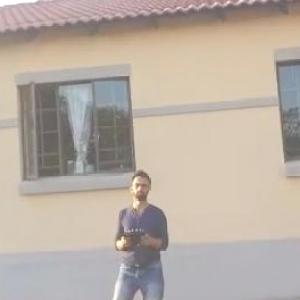follow: (110, 162, 176, 299)
